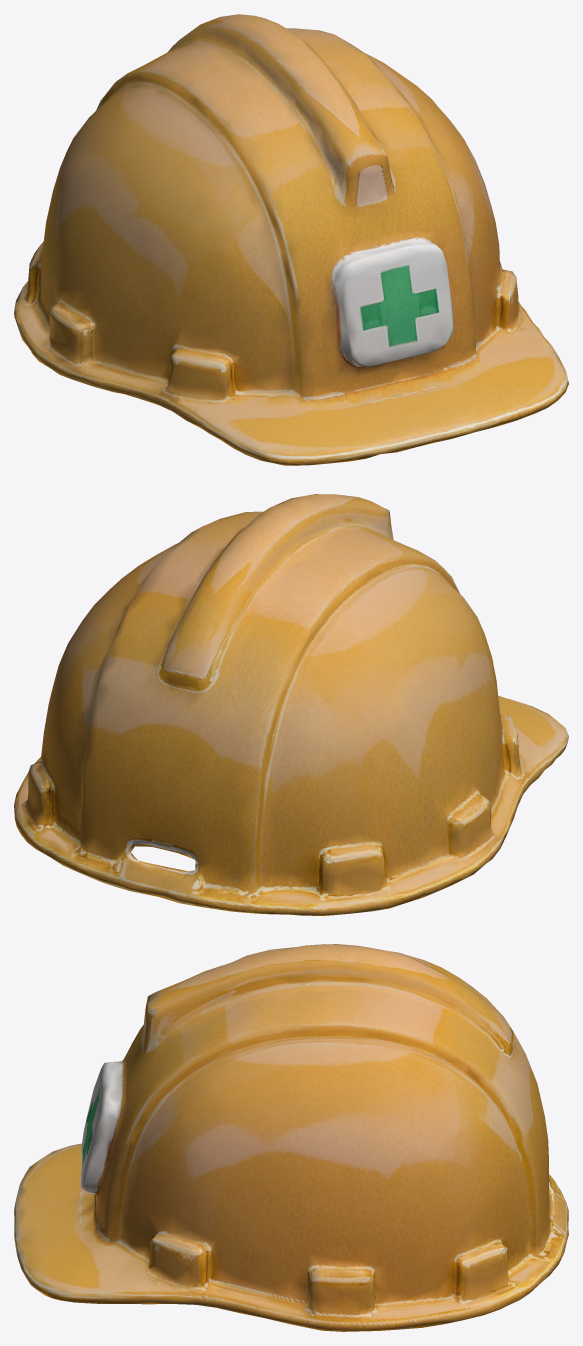
File: Item_Hat_SafetyHelmet2.glb
3 renders of one model, top to bottom at view 1: azimuth 30°, elevation 25°; view 2: azimuth 150°, elevation 25°; view 3: azimuth 270°, elevation 25°, orthographic. The views are drawn at different scales.
Visible parts, largest first — view 1: input; view 2: input; view 3: input.
Part boxes in pixels (x1,y1,x2,y2): input: (14, 14, 568, 465); input: (14, 494, 568, 915); input: (14, 944, 568, 1331).
Size of the model in its own units: 0.8848 by 0.5671 by 1.
Materials: 1 (1 with a texture image).
